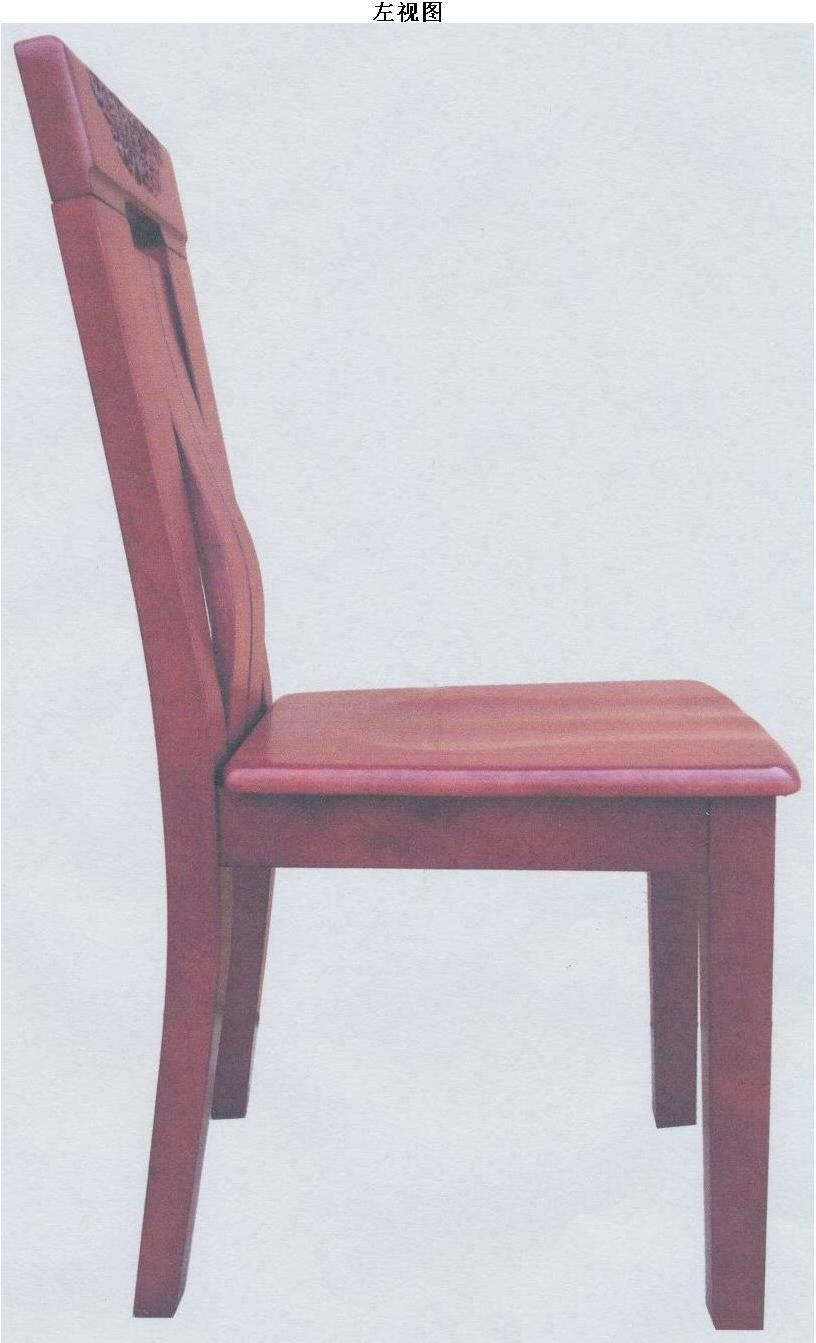obstacle: (4, 24, 812, 1342)
